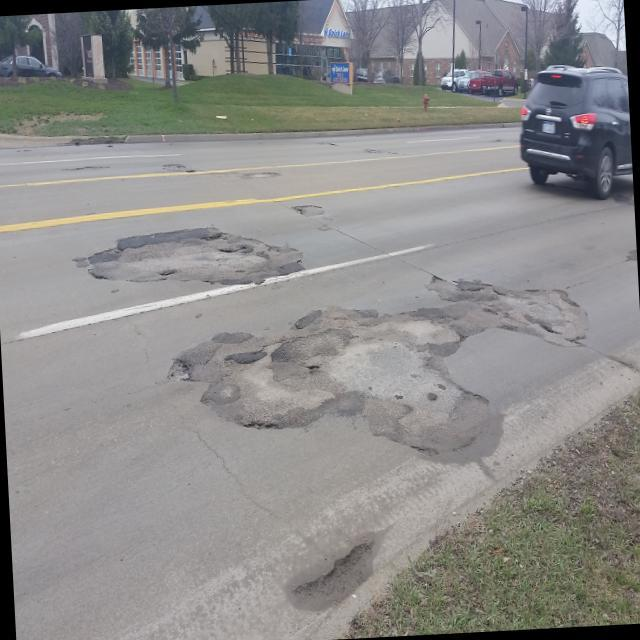Pothole: (329, 294, 472, 460), (90, 218, 303, 294), (207, 326, 321, 446), (463, 276, 592, 349), (282, 524, 378, 609)
